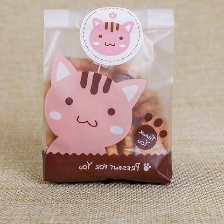snack: (34, 0, 186, 189)
